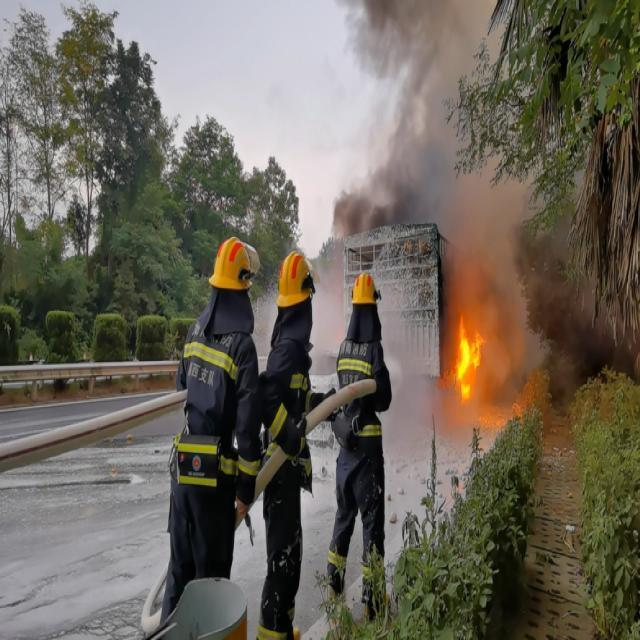Fire: (456, 328, 481, 404)
Smoke: (333, 0, 455, 227), (454, 165, 522, 324)
